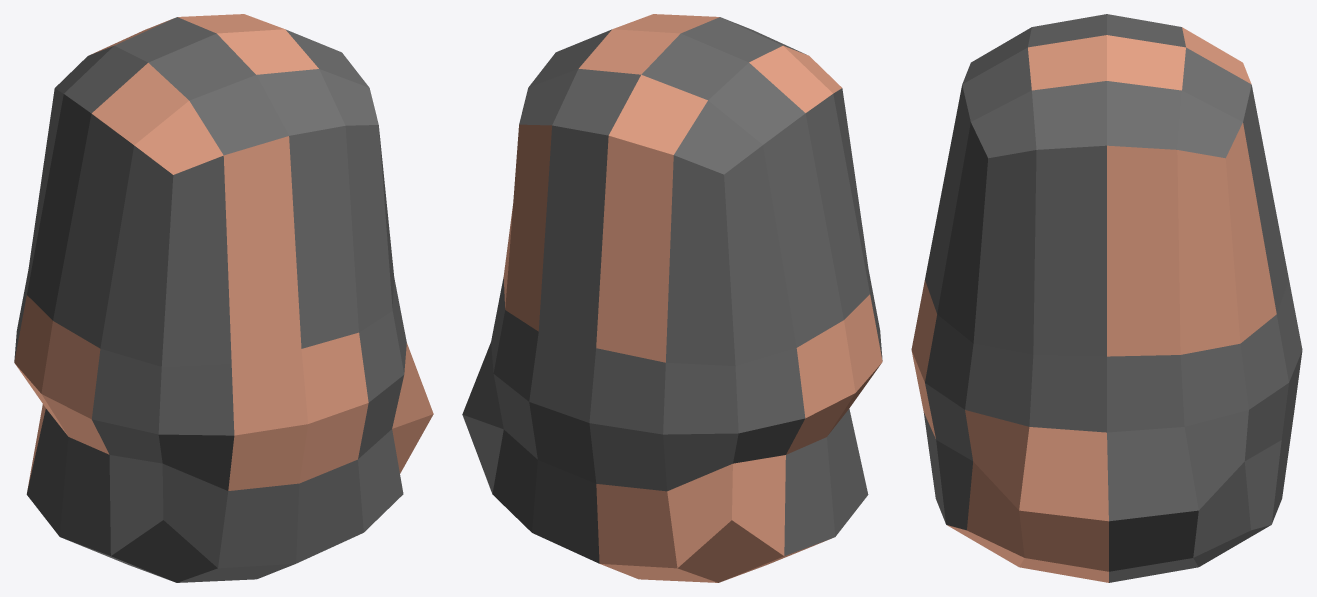
File: Low_Poly_Iron_Ore.fbx
The picture shows the model from 3 angles, left to right: view 1: azimuth 30°, elevation 25°; view 2: azimuth 150°, elevation 25°; view 3: azimuth 270°, elevation 25°; orthographic projection.
Parts seen in each view (by area): view 1: IronOre; view 2: IronOre; view 3: IronOre.
Boxes of the visible parts, x1,y1,x2,y2 form: IronOre: (14, 14, 433, 582); IronOre: (462, 14, 882, 582); IronOre: (911, 14, 1302, 582).
Size of the model in its own units: 127 by 177 by 119.
